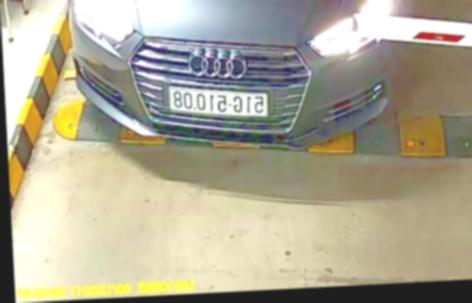License_Plate: (165, 81, 269, 121)
